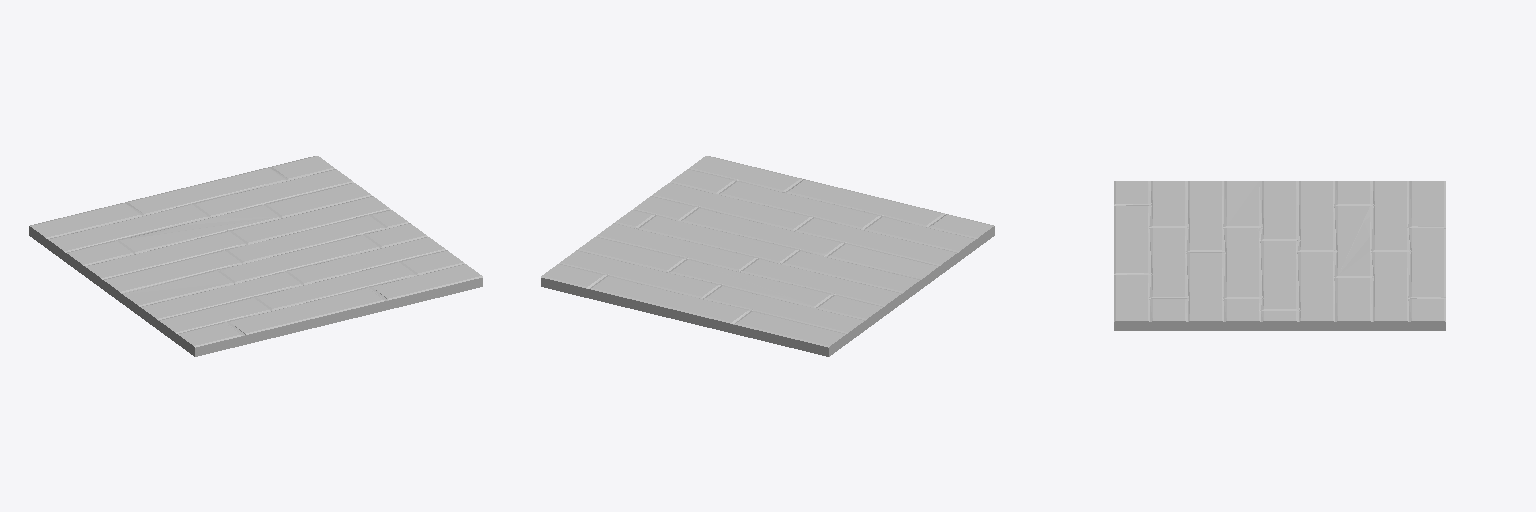
The model's file is floor-tile.obj.
The picture shows the model from 3 angles: view 1: azimuth 30°, elevation 25°; view 2: azimuth 150°, elevation 25°; view 3: azimuth 270°, elevation 25°; orthographic projection.
Visible parts, largest first — view 1: floor-tile; view 2: floor-tile; view 3: floor-tile.
Part boxes in pixels (left/top/right/bottom): floor-tile: left=29, top=156, right=482, bottom=356; floor-tile: left=541, top=156, right=994, bottom=356; floor-tile: left=1114, top=181, right=1445, bottom=330.
Size of the model in its own units: 6 by 0.2 by 6.